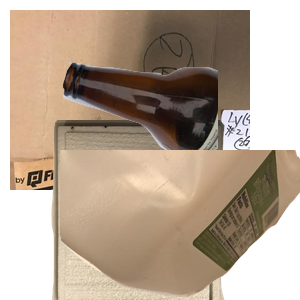cardboard: (10, 10, 250, 190)
glass: (60, 59, 300, 217)
plastic: (60, 150, 300, 300)
trash: (49, 120, 269, 300)
